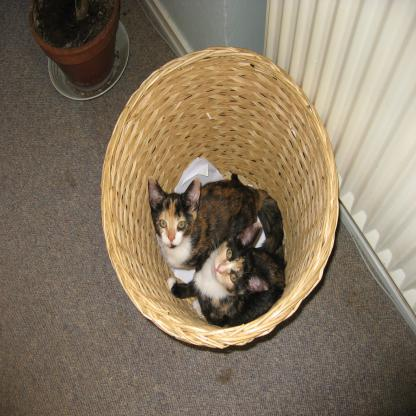cat: (144, 170, 260, 252), (202, 226, 279, 324)
